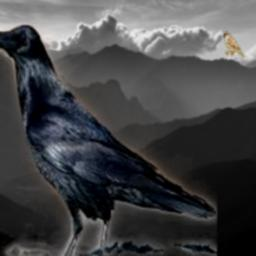Crow: (0, 23, 217, 256)
Sparrow: (222, 32, 244, 59)
